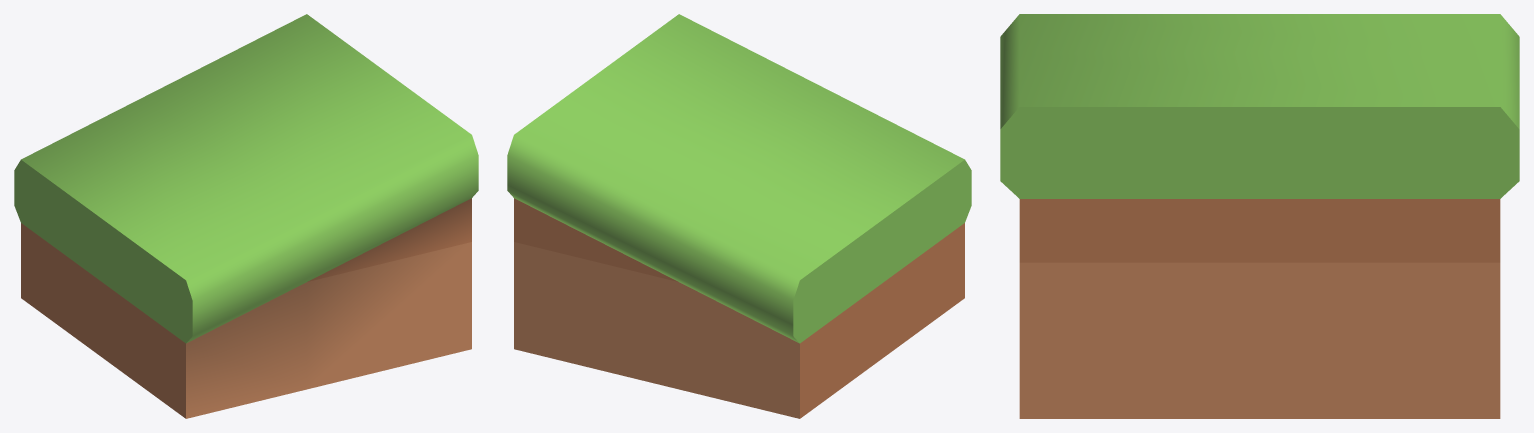
File: 01_slope_up_normal_center.glb
3 renders of one model, left to right at view 1: azimuth 30°, elevation 25°; view 2: azimuth 150°, elevation 25°; view 3: azimuth 270°, elevation 25°, orthographic. The views are drawn at different scales.
Visible parts, largest first — view 1: 01_slope_up_normal_center; view 2: 01_slope_up_normal_center; view 3: 01_slope_up_normal_center.
Part boxes in pixels (x1,y1,x2,y2): 01_slope_up_normal_center: [14, 14, 478, 418]; 01_slope_up_normal_center: [507, 14, 971, 418]; 01_slope_up_normal_center: [1000, 14, 1519, 418].
Size of the model in its own units: 0.5 by 0.3582 by 0.54.
